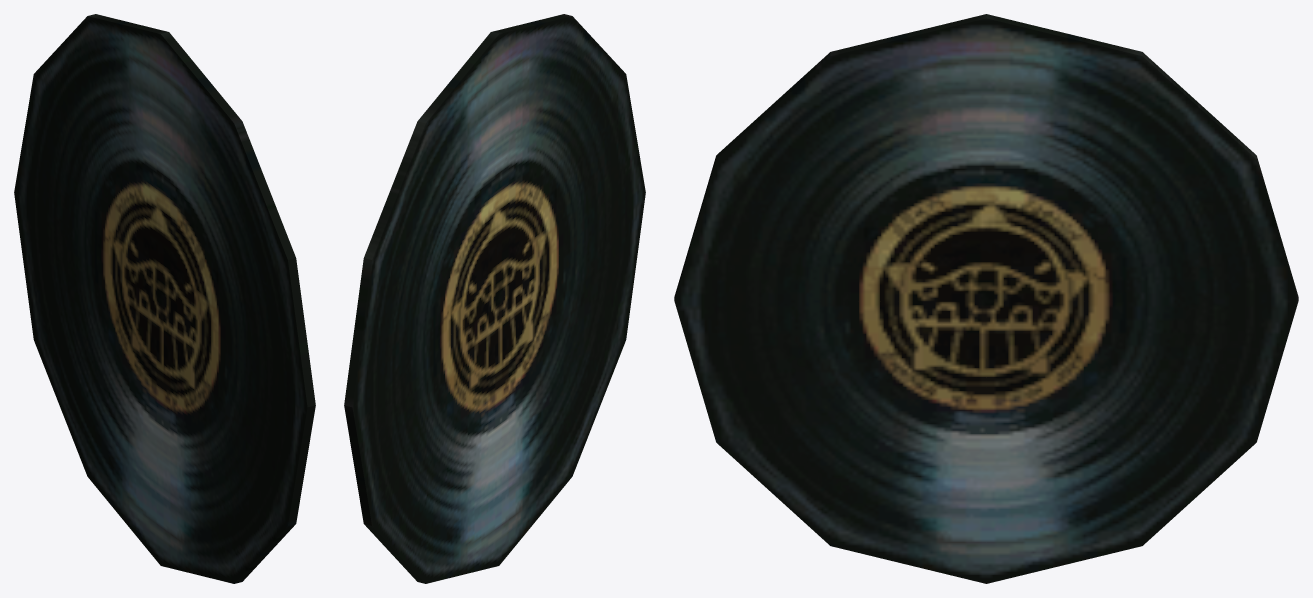
File: Whale_superStarSet_starDisc.obj
3 views of the same model, side by side, from view 1: azimuth 30°, elevation 25°; view 2: azimuth 150°, elevation 25°; view 3: azimuth 270°, elevation 25° (orthographic). The views are drawn at different scales.
Visible parts, largest first — view 1: Whale_superStarSet_tri [starDisc]; view 2: Whale_superStarSet_tri [starDisc]; view 3: Whale_superStarSet_tri [starDisc].
Boxes of the visible parts, box(x1,y1,x2,y2) form: Whale_superStarSet_tri [starDisc]: box(14, 14, 315, 583); Whale_superStarSet_tri [starDisc]: box(344, 14, 645, 583); Whale_superStarSet_tri [starDisc]: box(674, 14, 1298, 583).
Size of the model in its own units: 0.02 by 1.22 by 1.22.
Materials: 1 (1 with a texture image).
